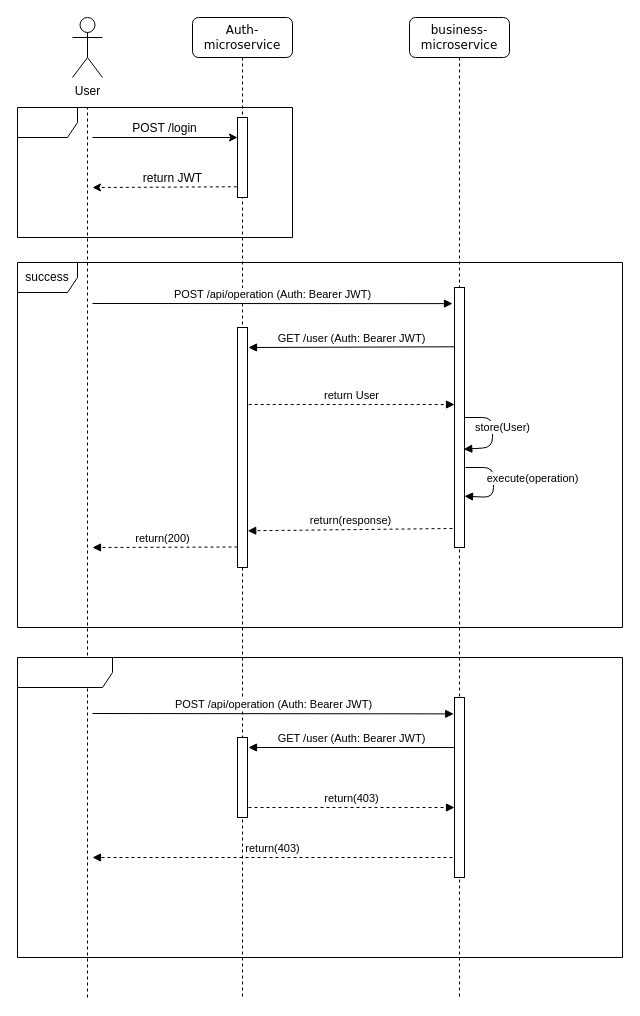
Some shapes in this 640 by 1016 pixel diagram are drawn without their labels. Here are the shapes that lost their labels. From the top down, the centre of each, then its label:
At point 154,172: "login".
At point 319,807: "invalid JWT".
